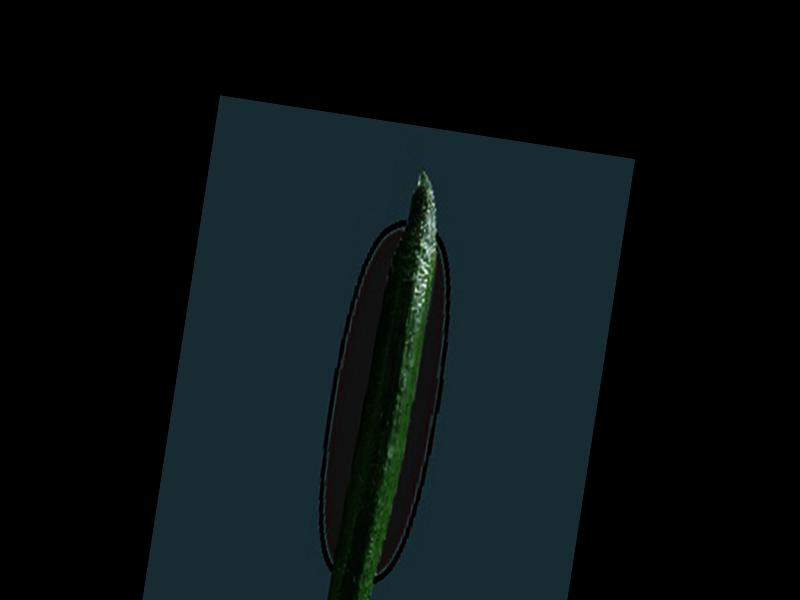Cucumber: (320, 166, 448, 600)
